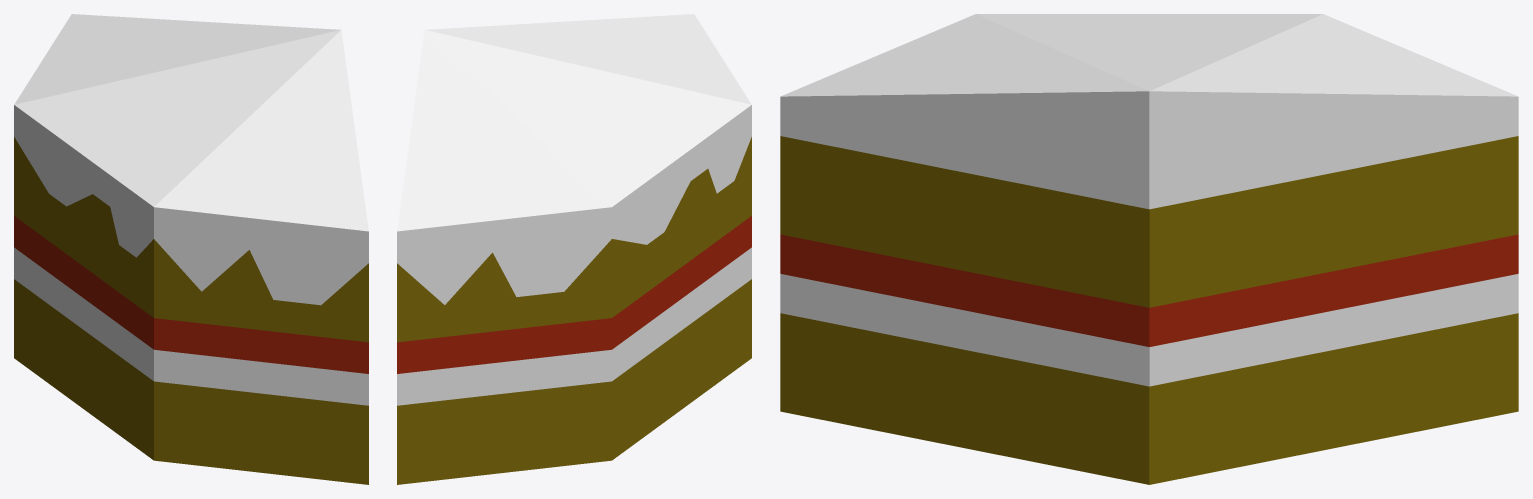
Rendered from inv_slice_of_cake.obj.
The picture shows the model from 3 angles, left to right: view 1: azimuth 30°, elevation 25°; view 2: azimuth 150°, elevation 25°; view 3: azimuth 270°, elevation 25°; orthographic projection. The views are drawn at different scales.
Bounding box in the file's own units: 0.1328 × 0.1562 × 0.2656.
